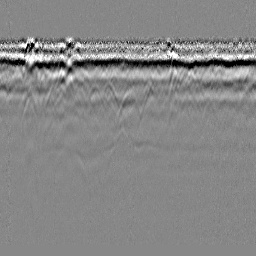cavity: (116, 86, 140, 123)
